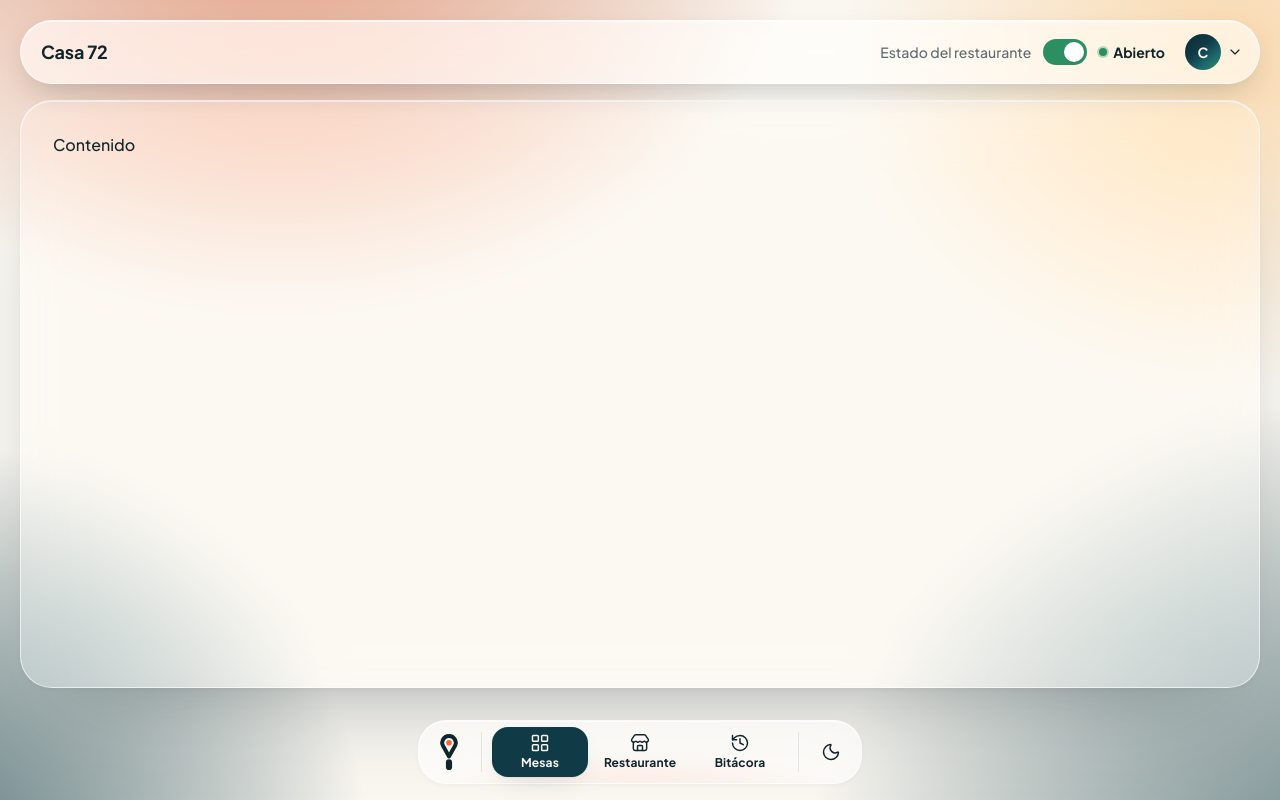
Test case: RestaurantStatus inside the DashboardLayout with a session › closing from the topbar shows the closed banner above the content
Click the switch named "Estado del restaurante" at (1104, 52), box x1=1043 y1=30 x2=1165 y2=74
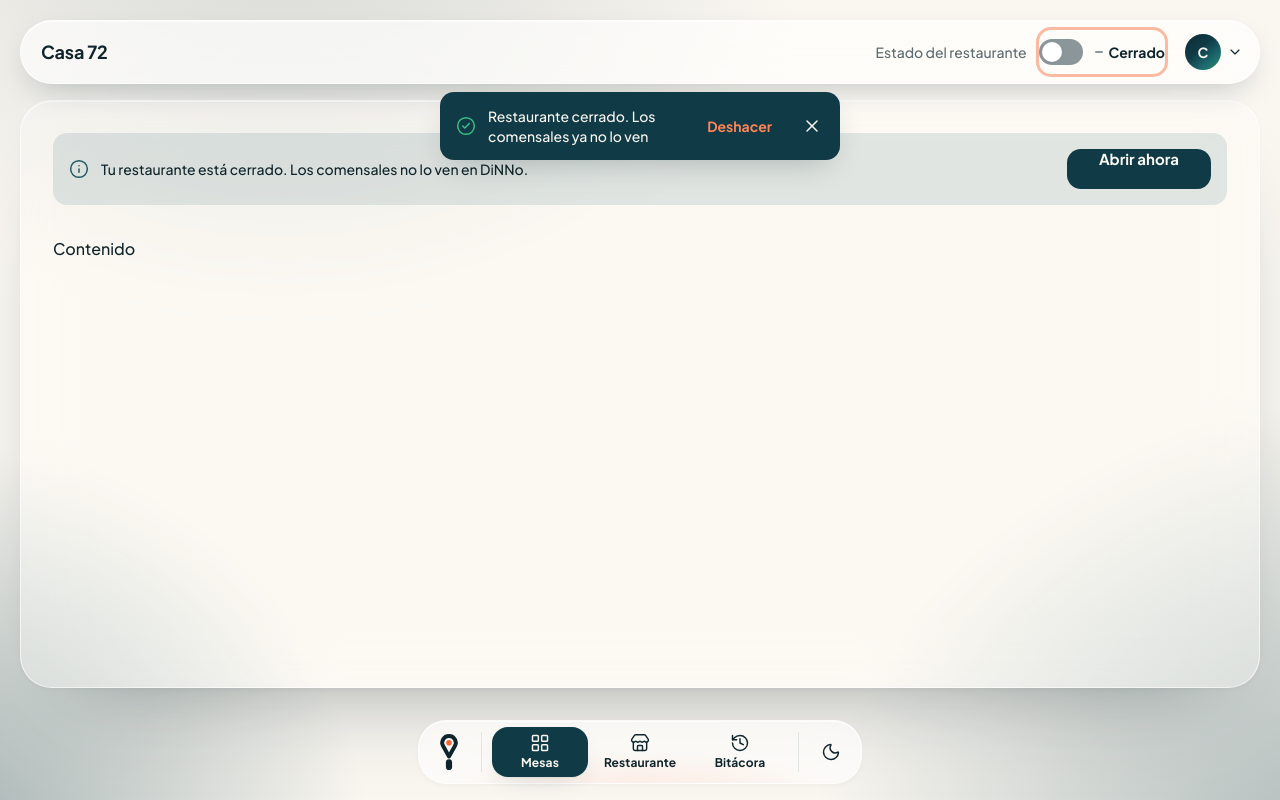
Expected: the text "Contenido" is shown, x1=53 y1=238 x2=135 y2=259
Now the text "Tu restaurante está cerrado. Los comensales no lo ven en DiNNo." is shown, box x1=101 y1=159 x2=528 y2=179
